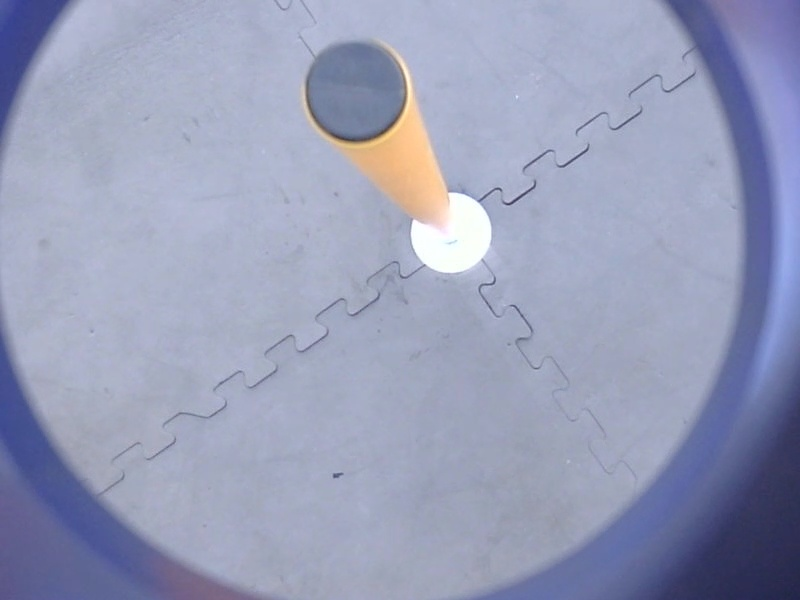tip: (296, 32, 420, 154)
